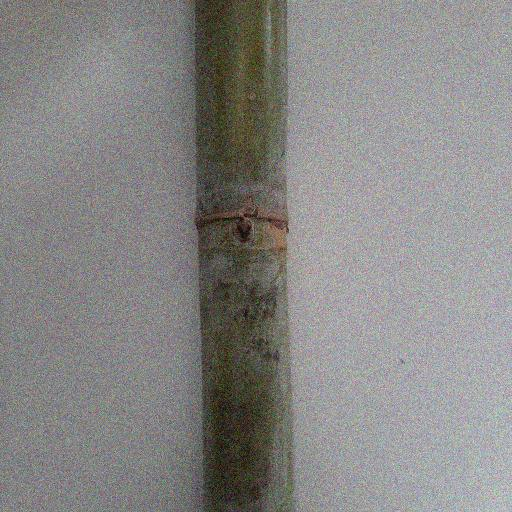Bud: (232, 216, 256, 244)
